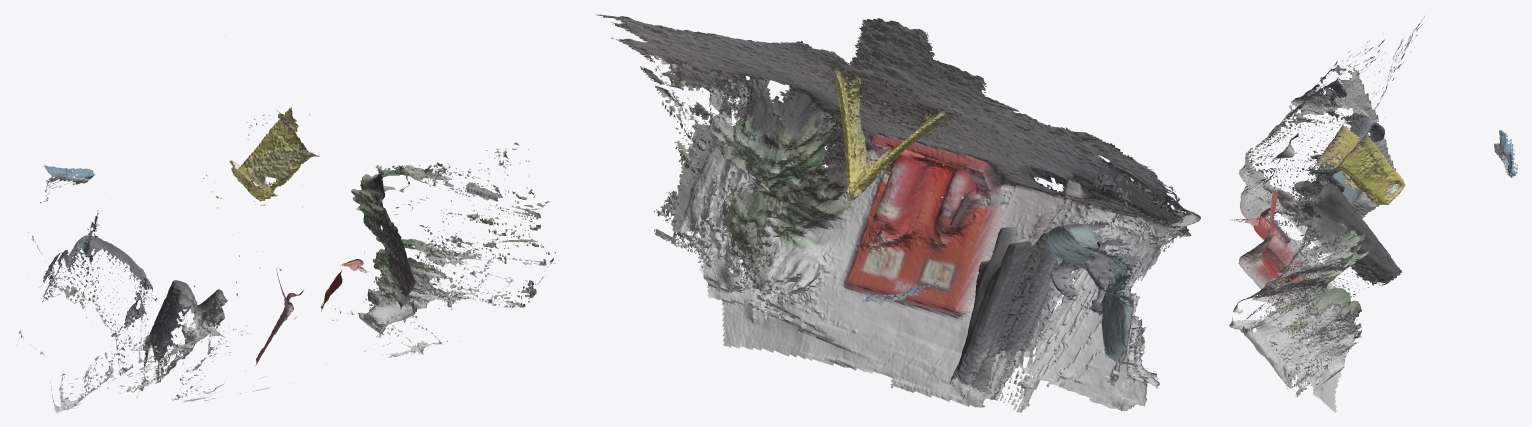
File: 7scenes_file_agent2.glb
3 views of the same model, side by side, from view 1: azimuth 30°, elevation 25°; view 2: azimuth 150°, elevation 25°; view 3: azimuth 270°, elevation 25° (orthographic). The views are drawn at different scales.
Visible parts, largest first — view 1: world; view 2: world; view 3: world.
Part boxes in pixels (x1=…): world: x1=16, y1=106, x2=555, y2=412; world: x1=596, y1=14, x2=1200, y2=412; world: x1=1229, y1=16, x2=1517, y2=412.
Size of the model in its own units: 3.24 by 2.25 by 1.92.
